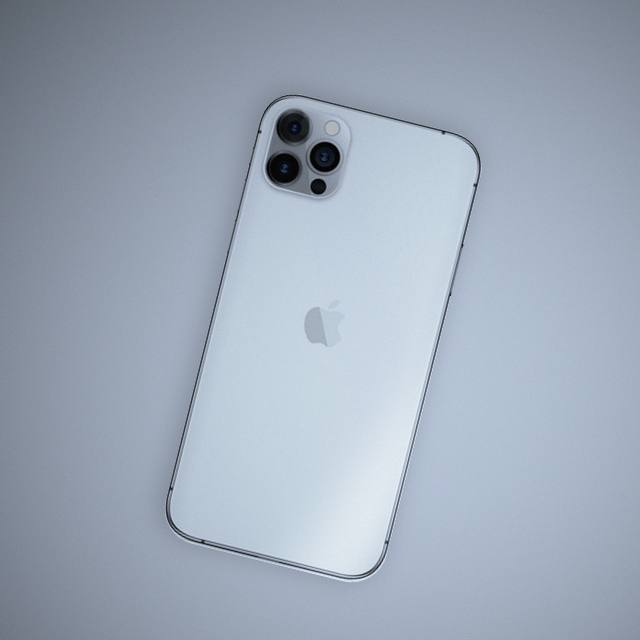iphone_12pro_silver: (153, 53, 486, 611), (246, 93, 368, 214)
